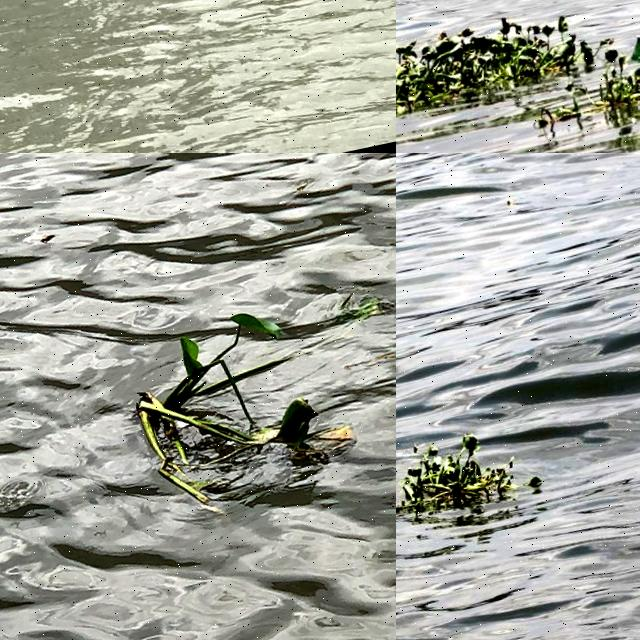water-hyacinth: (109, 287, 363, 521), (397, 1, 608, 136), (397, 421, 552, 529), (579, 50, 640, 127)
